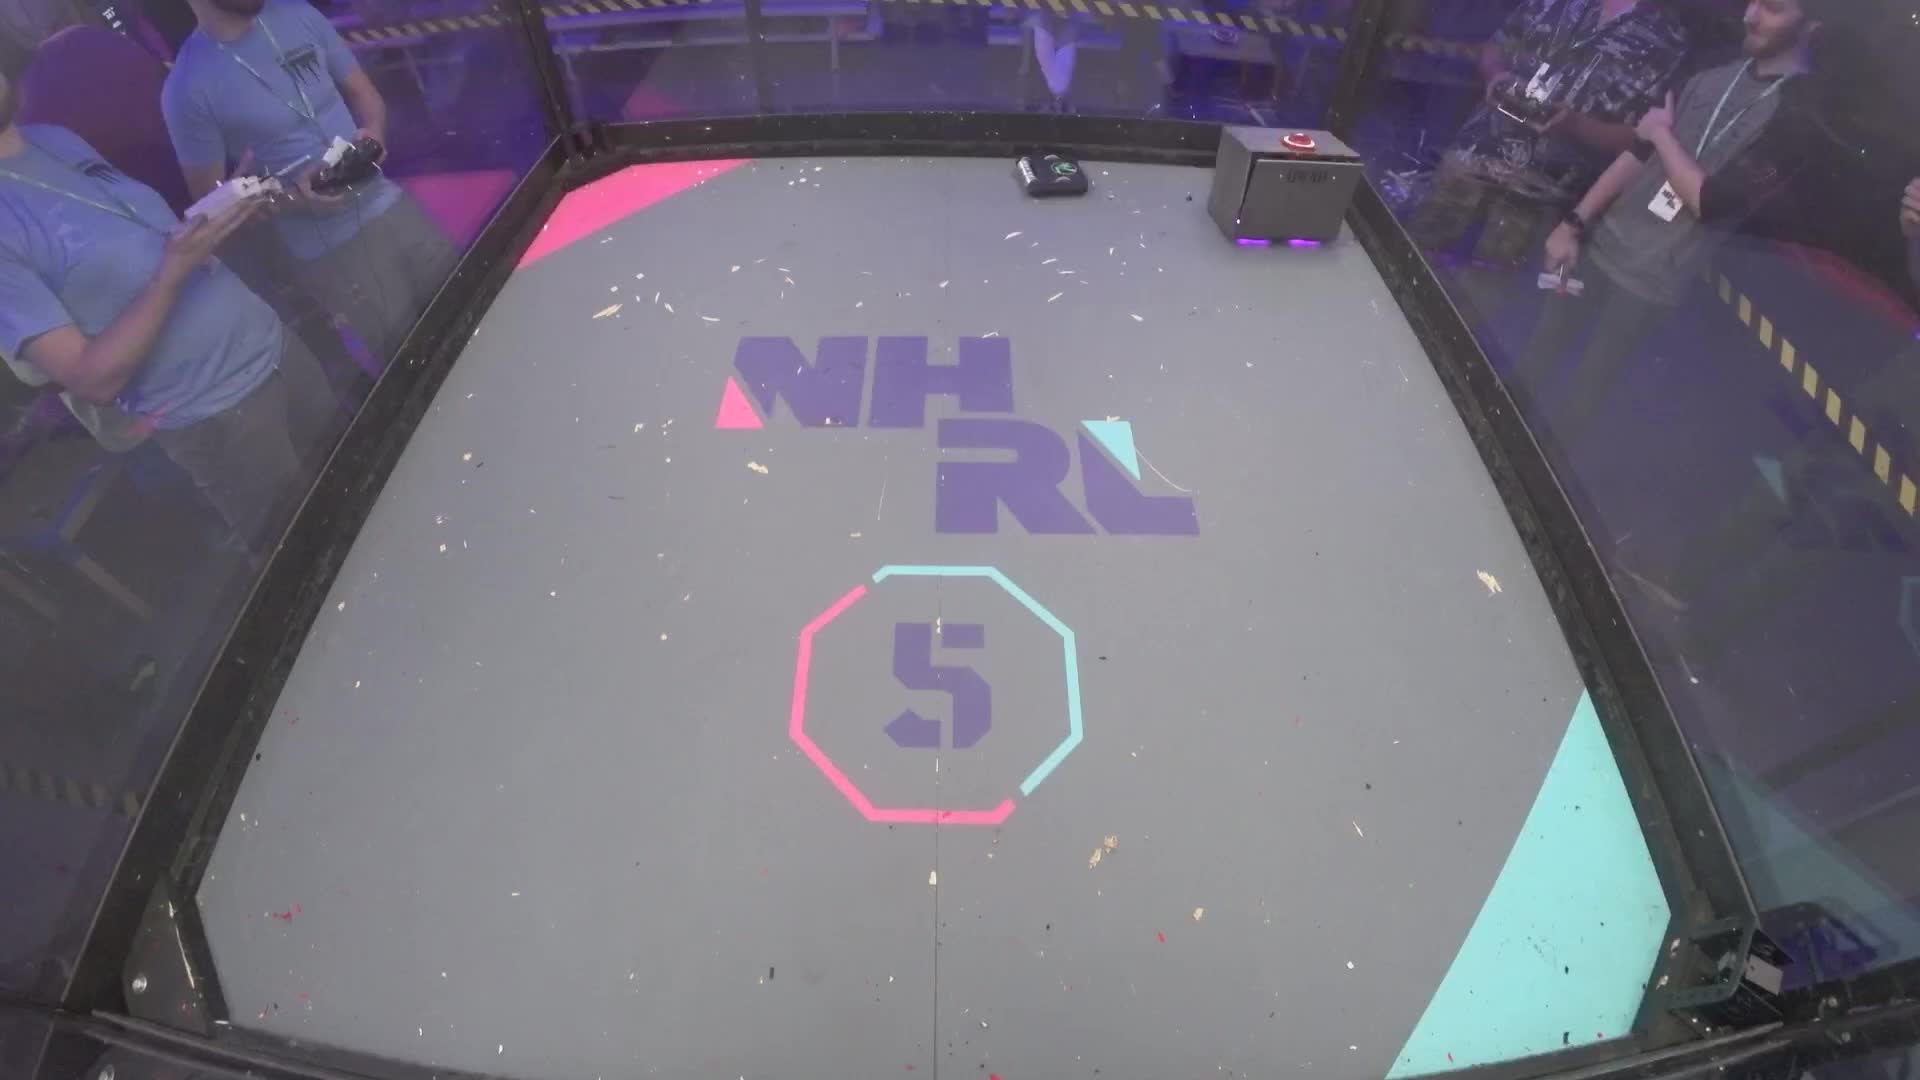combatbot: (1011, 153, 1093, 203)
housebot: (1211, 131, 1365, 253)
